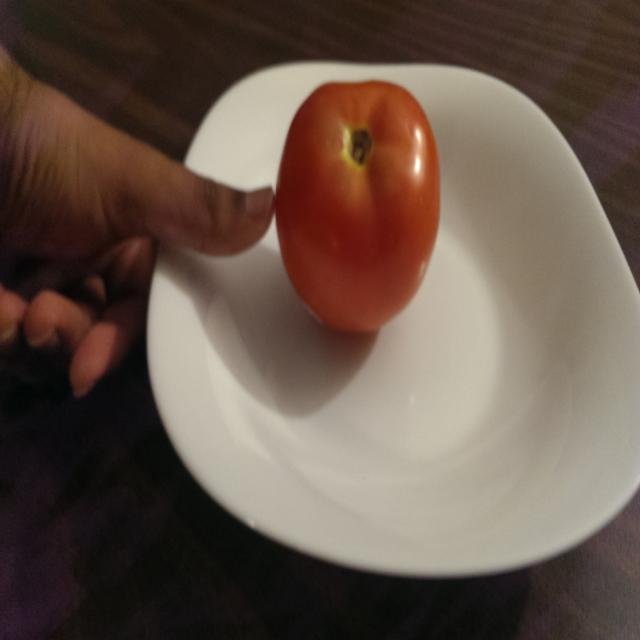tomato: (274, 79, 441, 336)
